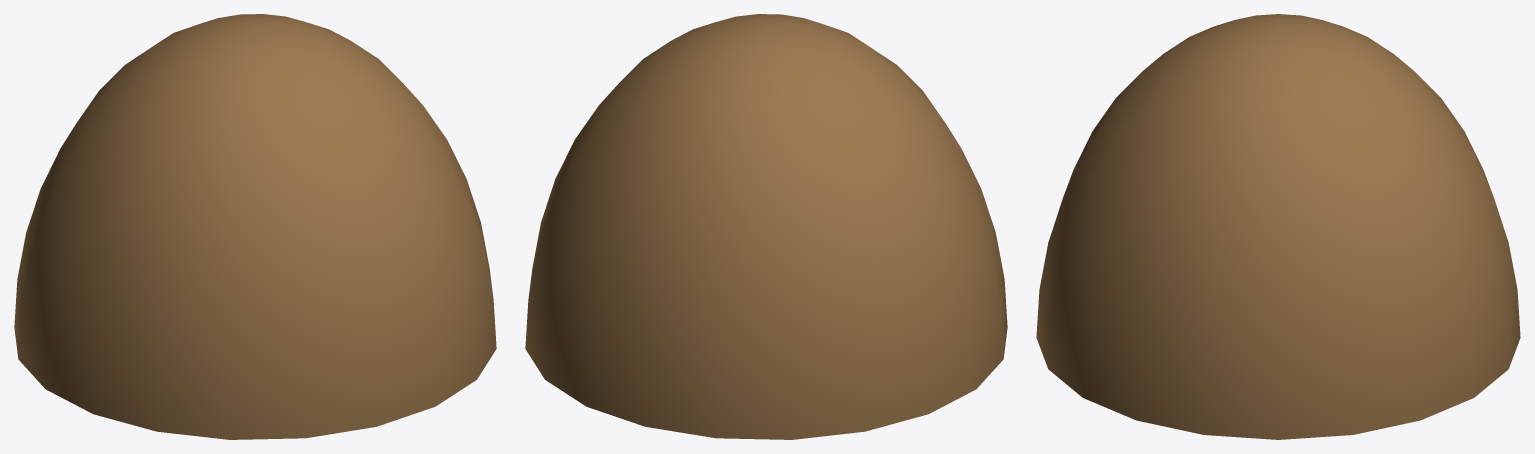
The model's file is hat-cowboy.glb.
The picture shows the model from 3 angles, left to right: view 1: azimuth 30°, elevation 25°; view 2: azimuth 150°, elevation 25°; view 3: azimuth 270°, elevation 25°; orthographic projection.
Visible parts, largest first — view 1: crown; view 2: crown; view 3: crown.
Part boxes in pixels (x1=…): crown: x1=14, y1=14, x2=496, y2=439; crown: x1=525, y1=14, x2=1007, y2=439; crown: x1=1036, y1=14, x2=1520, y2=439.
Size of what is drawn, in the model's own units: 0.22 by 0.154 by 0.22.
